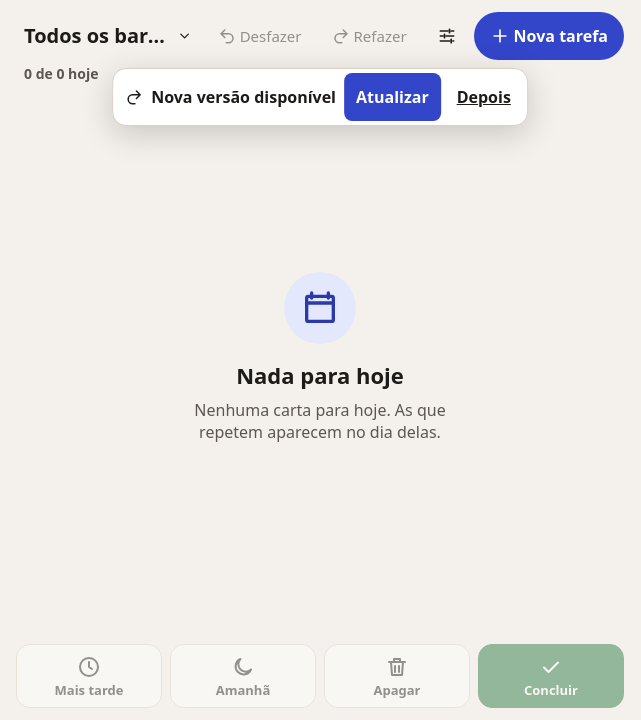
Test: update prompt › "Depois" hides it for the session
Click the button "Depois". click: coordinates (484, 97)
box: [445,73,523,121]
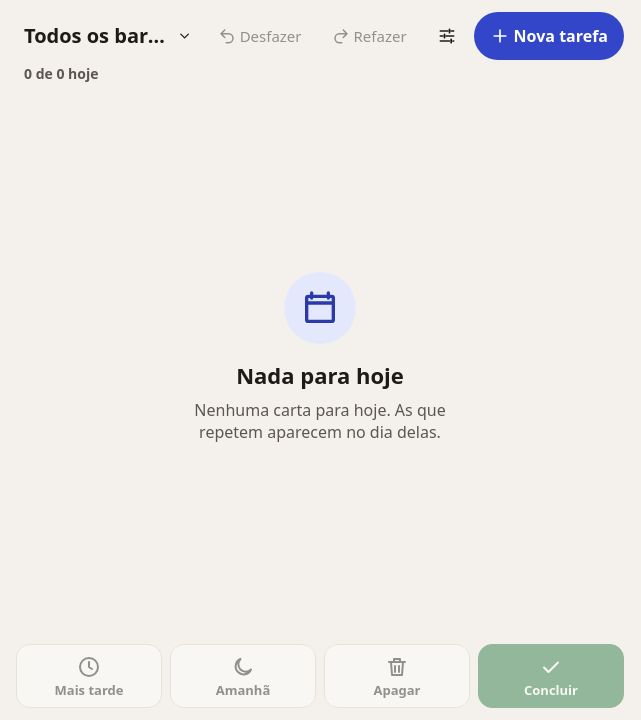
Expected: the element with test id "update-toast" is gone
